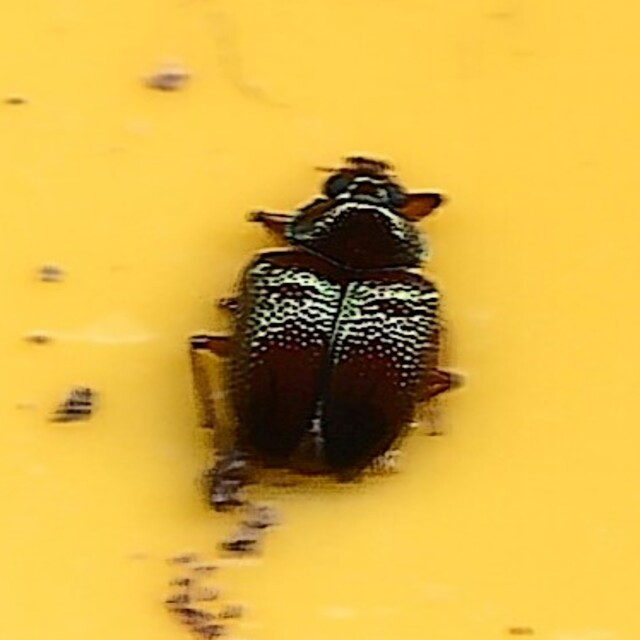Coleoptera: (171, 149, 469, 491)
